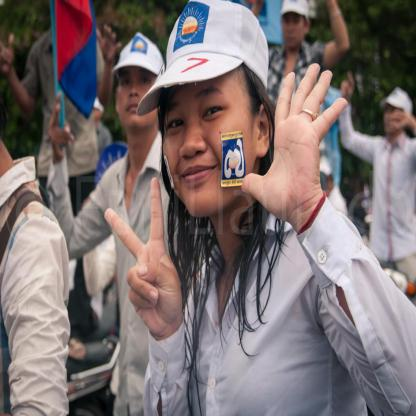face: (163, 53, 257, 218), (118, 54, 162, 129), (284, 7, 306, 49), (384, 102, 406, 135)
